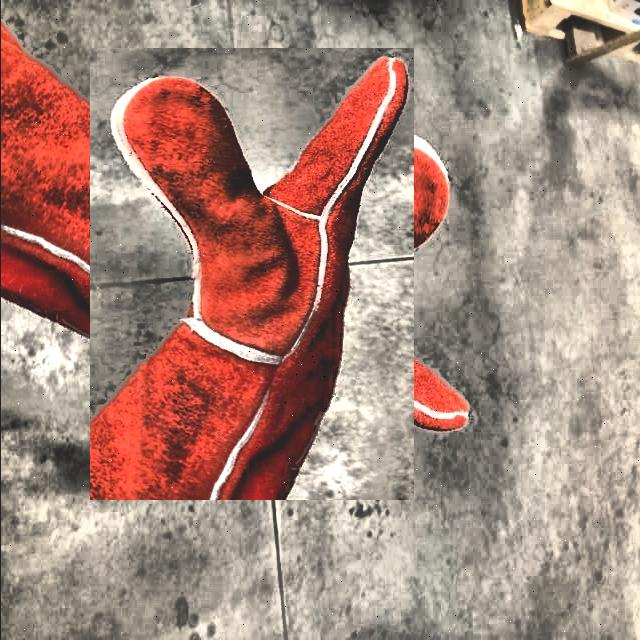gloved: (57, 80, 445, 468)
